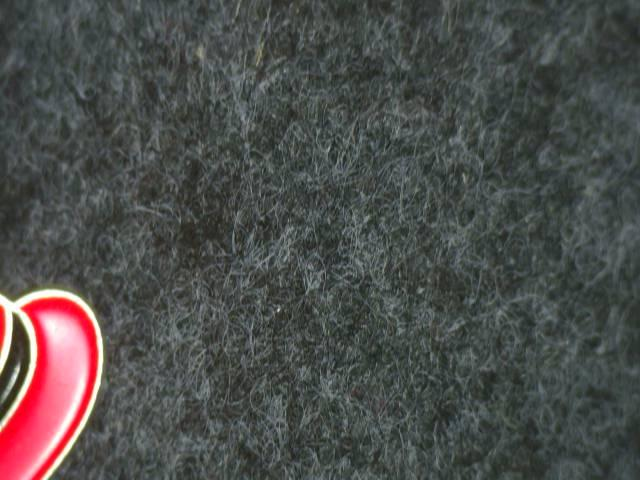Red-Hat: (0, 254, 130, 480)
